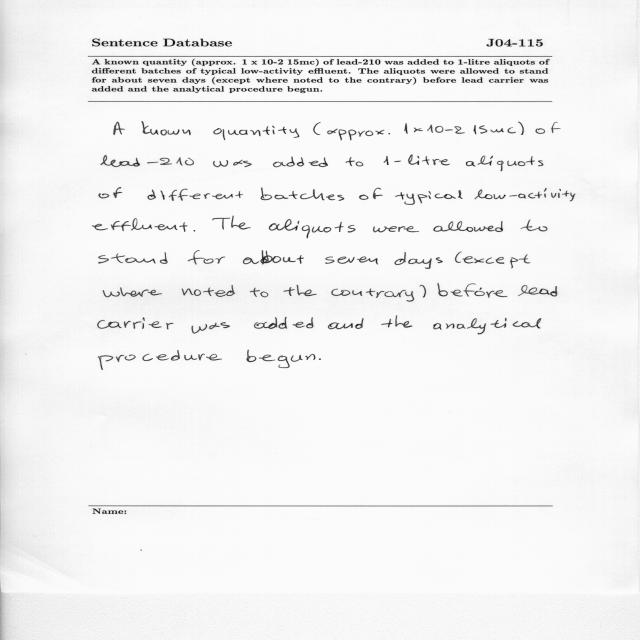word: (98, 350, 222, 370), (434, 318, 542, 335), (269, 219, 355, 238), (92, 218, 188, 232), (475, 188, 576, 201), (247, 350, 316, 368), (213, 126, 299, 140), (261, 187, 344, 201), (466, 156, 543, 171), (147, 189, 243, 201), (101, 155, 194, 167), (331, 289, 414, 302), (438, 283, 508, 298), (395, 190, 463, 205), (98, 318, 174, 330), (243, 251, 304, 265), (394, 252, 443, 269), (99, 252, 168, 264), (474, 255, 531, 269), (434, 221, 503, 232), (141, 121, 191, 136), (254, 317, 314, 329), (327, 129, 390, 140), (384, 155, 450, 165), (182, 285, 235, 297), (273, 157, 328, 168), (103, 288, 162, 298), (188, 250, 225, 265), (213, 216, 251, 230), (518, 285, 557, 297), (192, 322, 230, 334), (325, 257, 378, 265), (473, 125, 516, 134), (328, 318, 363, 329), (382, 316, 413, 328), (284, 285, 317, 296), (427, 125, 465, 134), (521, 220, 548, 232), (535, 122, 561, 134), (359, 188, 383, 200), (373, 226, 419, 232), (213, 160, 252, 167), (99, 188, 122, 199), (455, 252, 473, 264), (345, 158, 363, 167), (250, 288, 268, 297), (114, 122, 125, 135), (313, 122, 321, 135), (518, 122, 524, 135), (420, 285, 426, 297), (404, 123, 408, 134), (414, 128, 423, 132), (194, 230, 196, 232), (319, 358, 321, 360)
